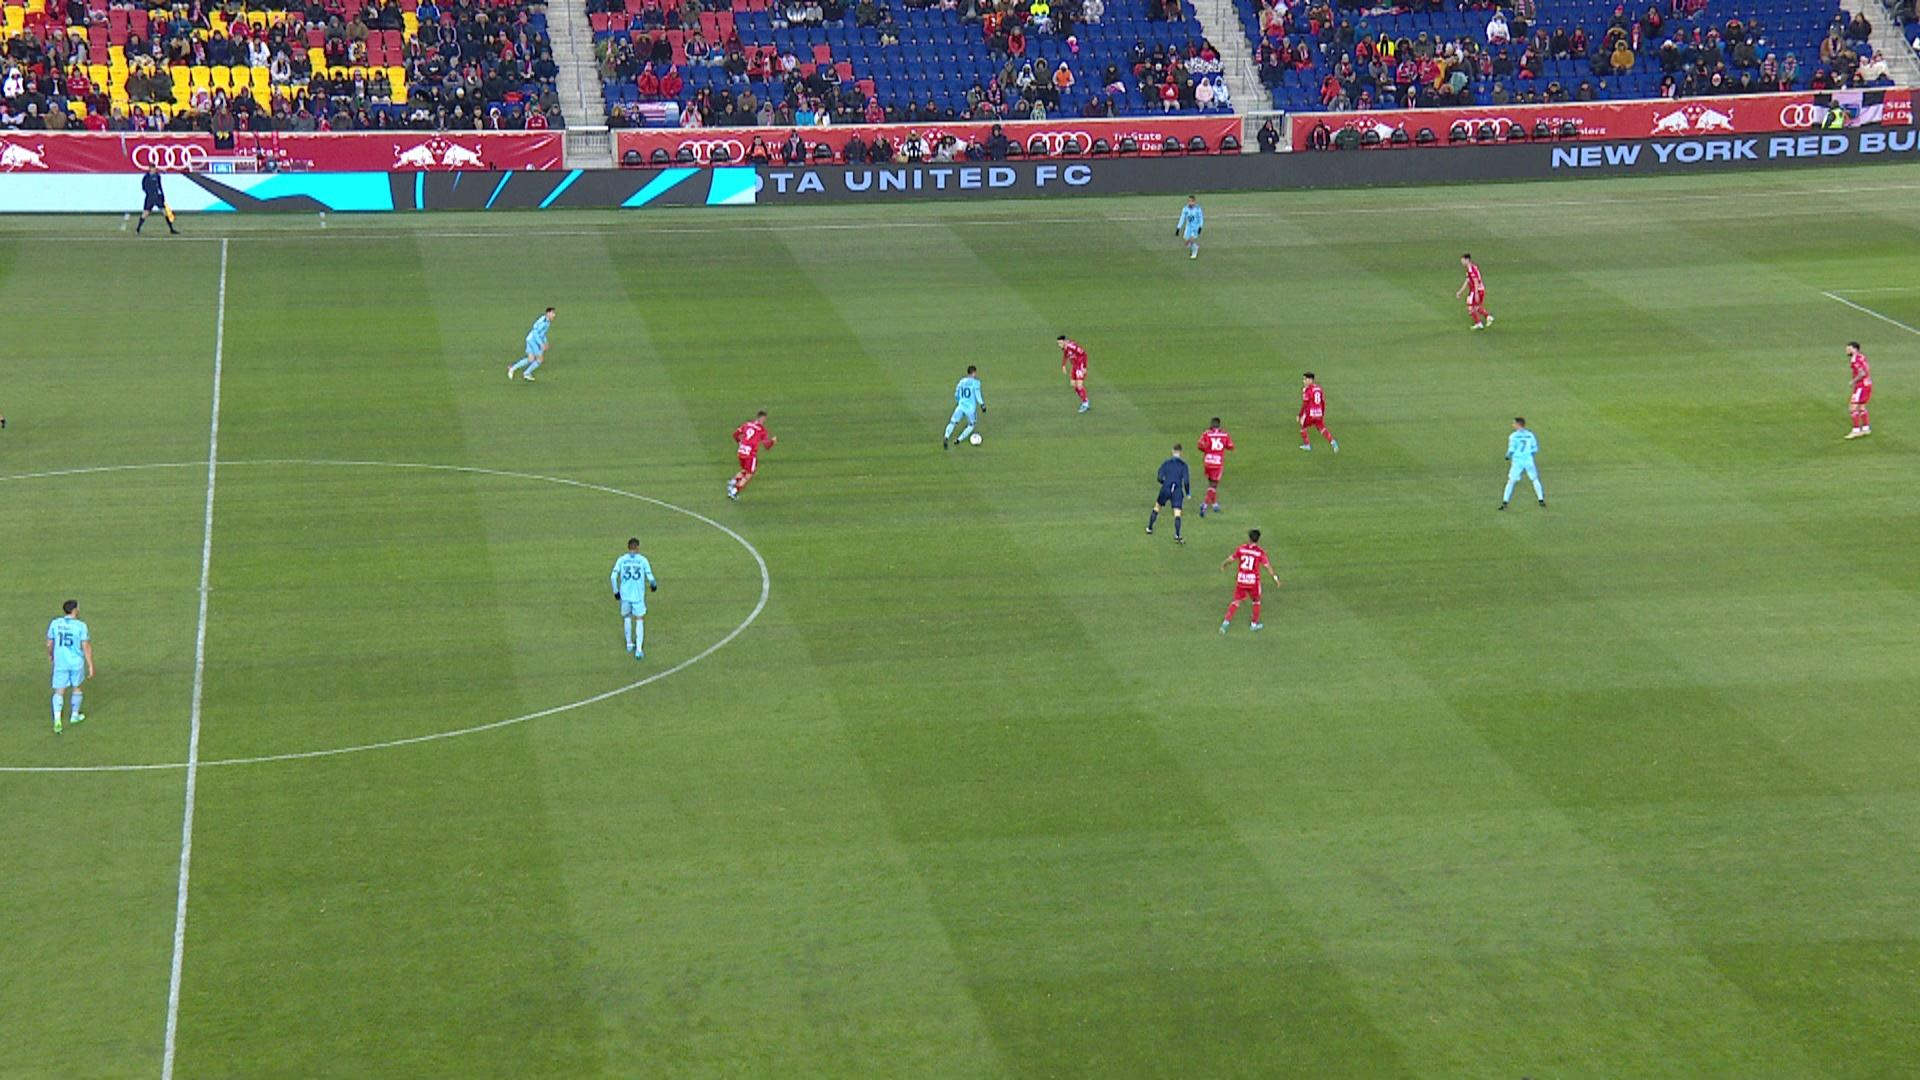football: (969, 433, 983, 446)
